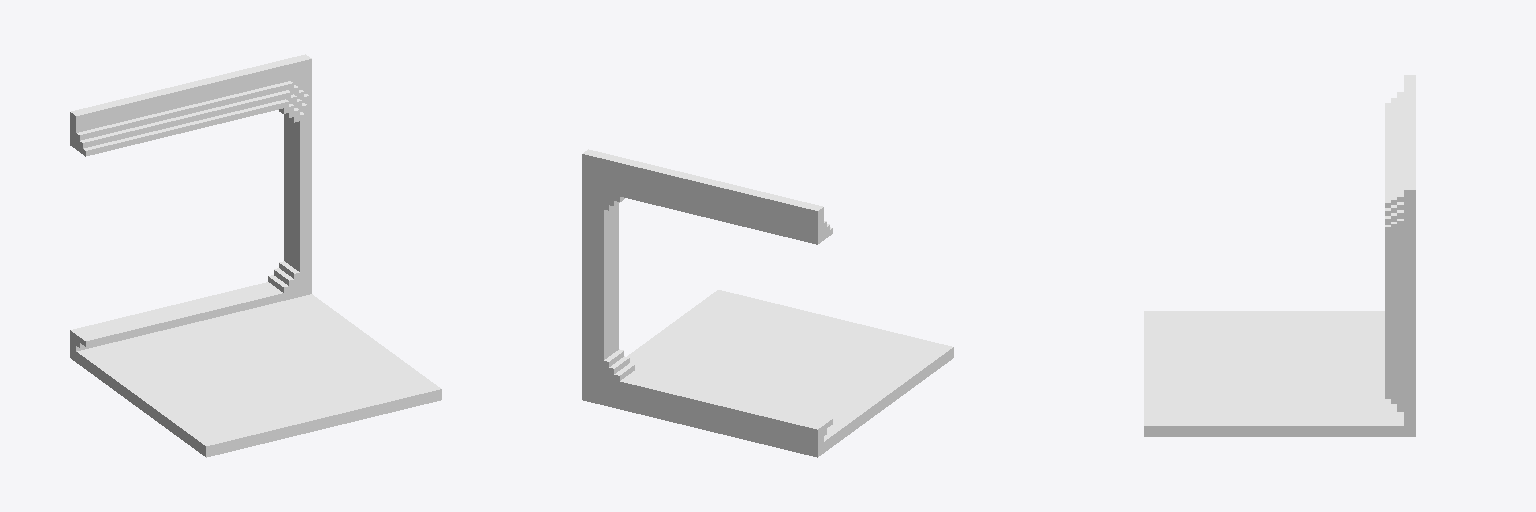
Rendered from mesh_hanger_door_frame_right.obj.
3 views of the same model, side by side, from view 1: azimuth 30°, elevation 25°; view 2: azimuth 150°, elevation 25°; view 3: azimuth 270°, elevation 25° (orthographic).
Visible parts, largest first — view 1: object 1; view 2: object 1; view 3: object 1.
Part boxes in pixels (x1,y1,x2,y2): object 1: (70,54,441,457); object 1: (582,149,953,457); object 1: (1144,75,1415,436).
Bounding box in the file's own units: 4.4 × 4.4 × 4.4.